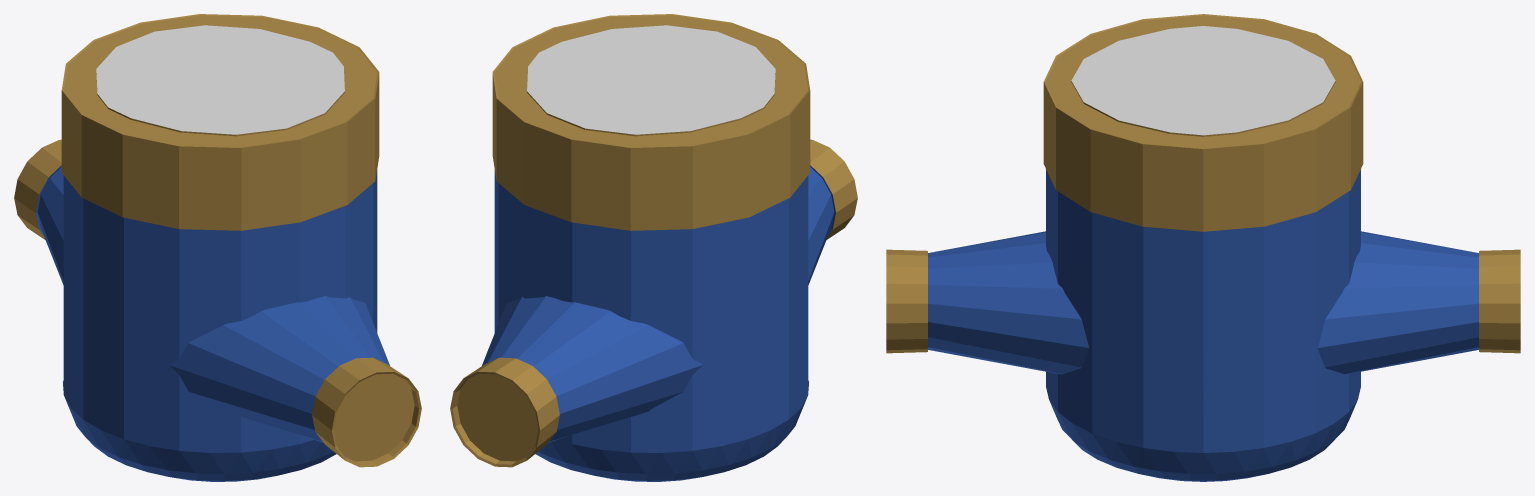
Rendered from watermeter.fbx.
The picture shows the model from 3 angles, left to right: view 1: azimuth 30°, elevation 25°; view 2: azimuth 150°, elevation 25°; view 3: azimuth 270°, elevation 25°; orthographic projection.
Visible parts, largest first — view 1: Cylinder.005; view 2: Cylinder.005; view 3: Cylinder.005.
Part boxes in pixels (<box>): Cylinder.005: <box>14,14,421,481</box>; Cylinder.005: <box>450,14,857,481</box>; Cylinder.005: <box>886,14,1520,481</box>.
Bounding box in the file's own units: 8.11 × 9.84 × 16.05.
